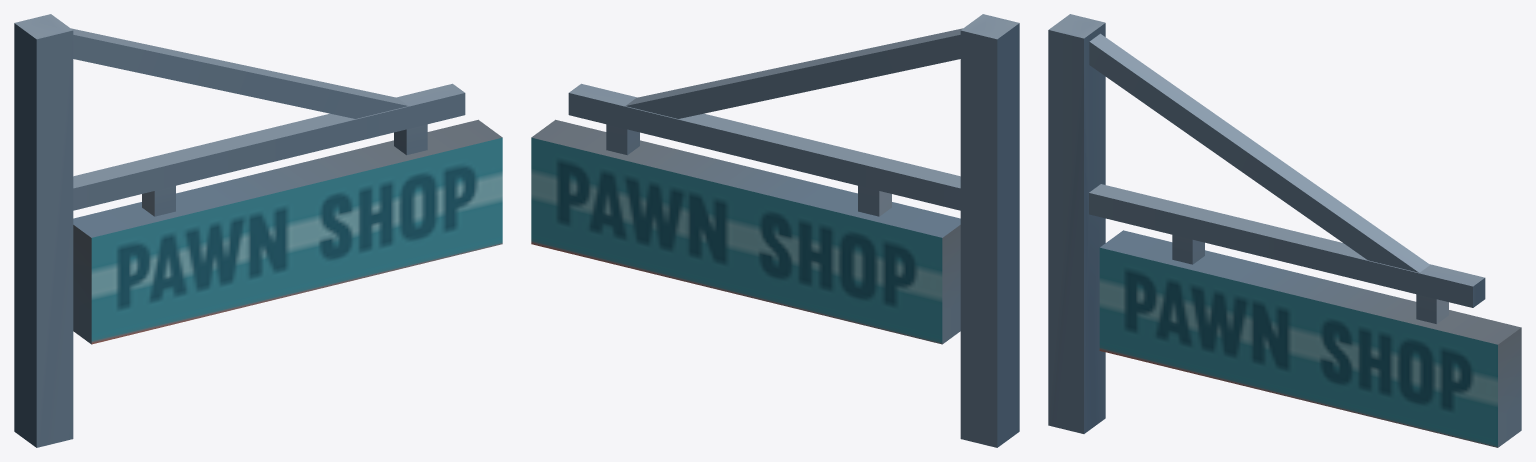
The model's file is SM_Sign_PawnShop_01.fbx.
3 views of the same model, side by side, from view 1: azimuth 30°, elevation 25°; view 2: azimuth 150°, elevation 25°; view 3: azimuth 330°, elevation 25° (orthographic). The views are drawn at different scales.
Parts seen in each view (by area): view 1: SM_Sign_PawnShop_01; view 2: SM_Sign_PawnShop_01; view 3: SM_Sign_PawnShop_01.
Boxes of the visible parts, x1=… form: SM_Sign_PawnShop_01: x1=14, y1=14, x2=502, y2=447; SM_Sign_PawnShop_01: x1=531, y1=14, x2=1019, y2=447; SM_Sign_PawnShop_01: x1=1048, y1=14, x2=1521, y2=447.
Size of the model in its own units: 2.35 by 1.97 by 0.2137.
